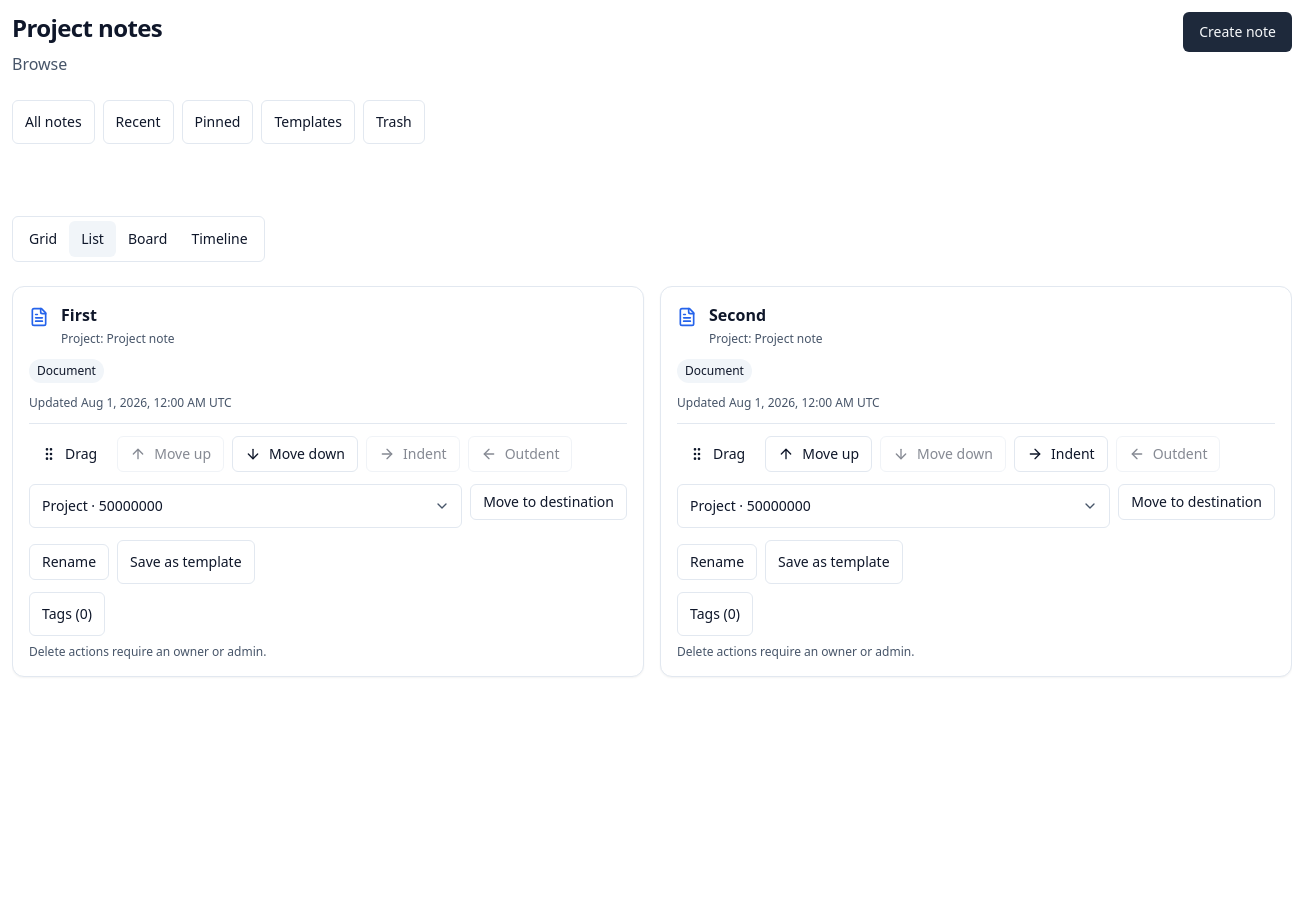
Scenario: NoteBoard › rolls a rejected column move back and offers the existing reload affordance
Step 1. Click the button "Board" → (148, 239), box [116, 221, 179, 257]
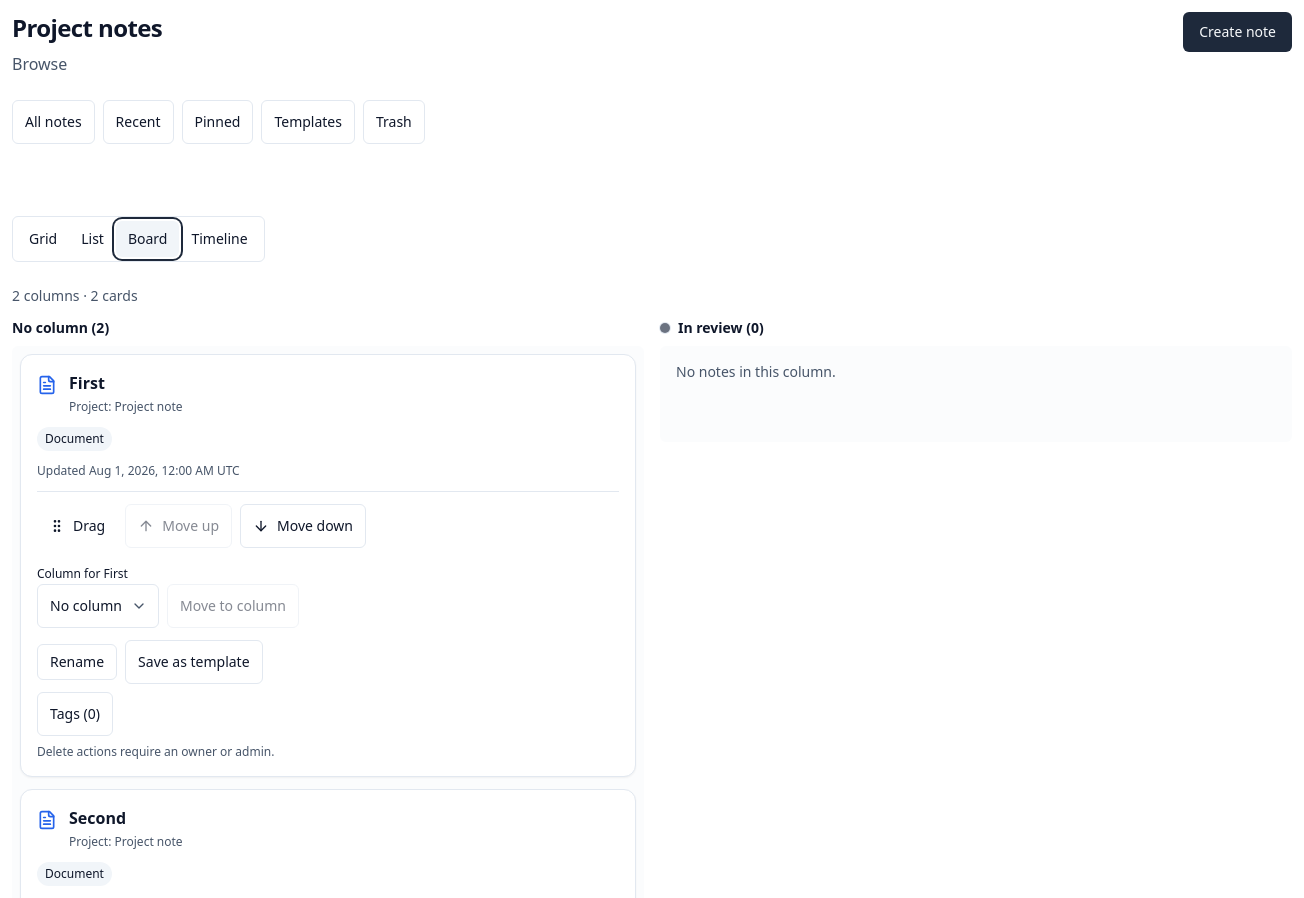
Expected: the heading "In review (0)" is shown, [660, 318, 764, 337]
Step 2. Select "In review" in the dropdown labelled "Column for First" → (98, 606), box [37, 584, 159, 628]
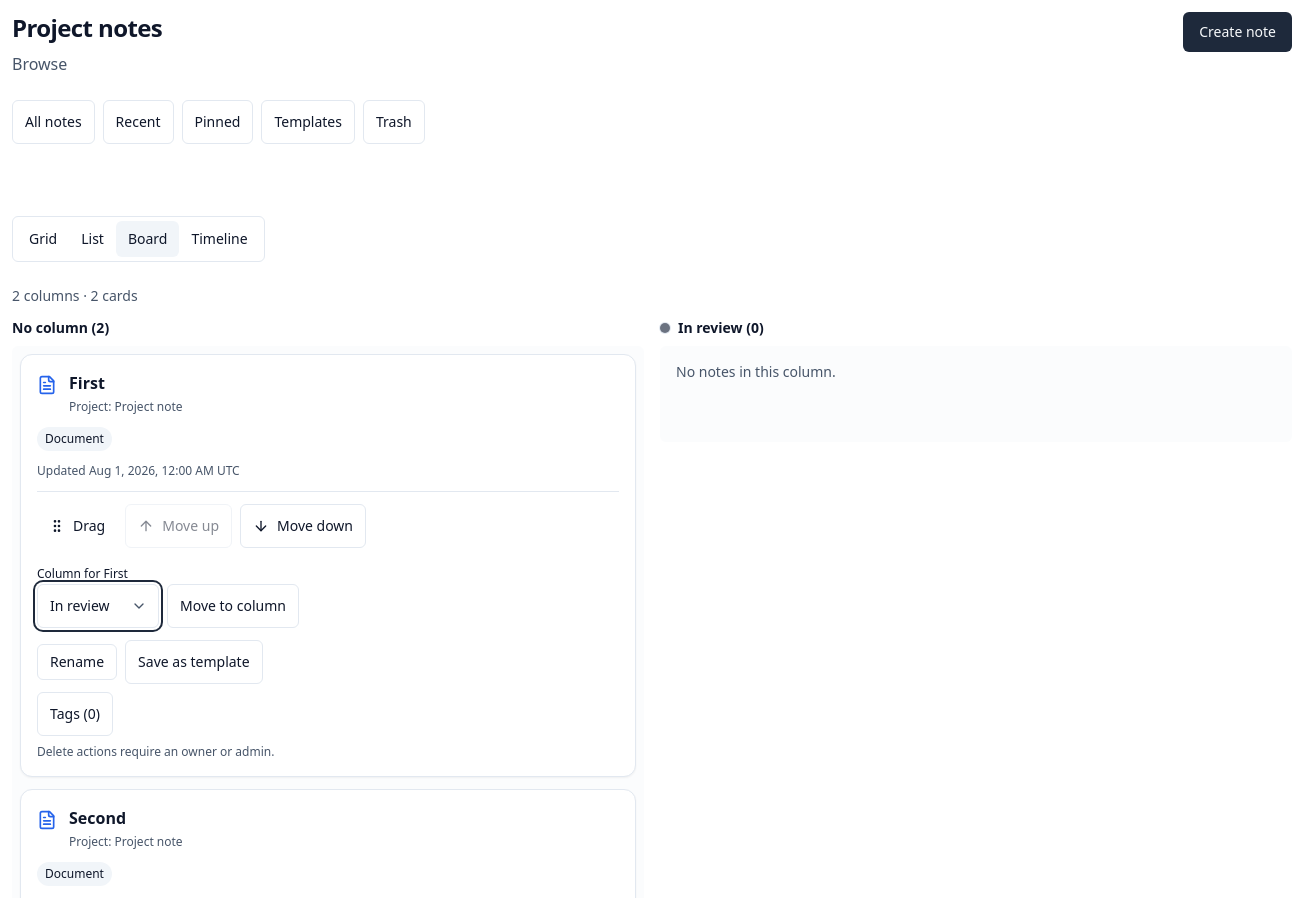
Step 3. Click the button named "Move to column for First" → (233, 606), box [167, 584, 299, 628]
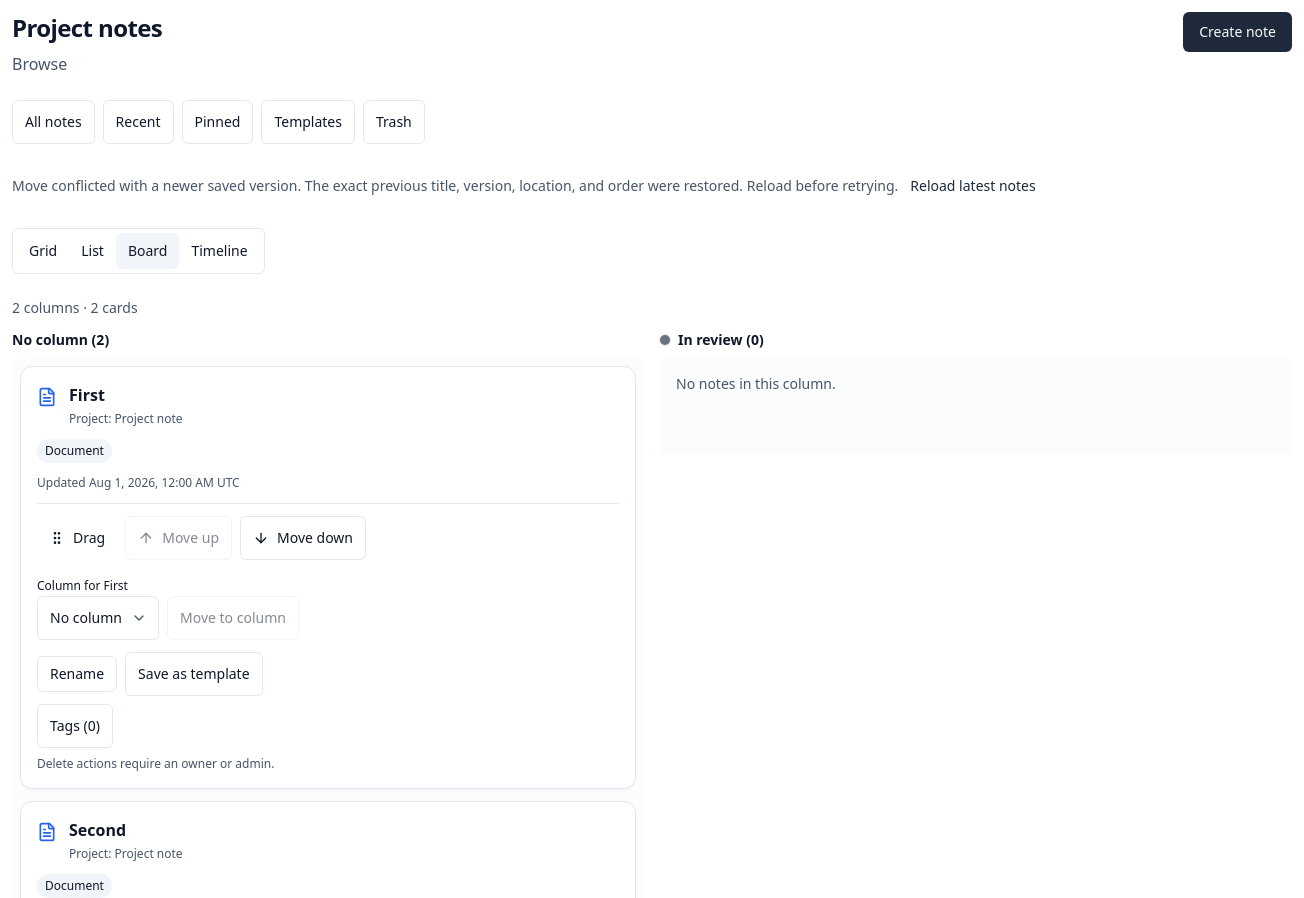
Expected: the heading "No column (2)" is shown, [12, 330, 109, 349]
Expected: the text "conflicted with a newer saved version" is shown, [12, 176, 898, 195]
Expected: the number of buttons "Reload latest notes" is 1, [898, 168, 1048, 204]
